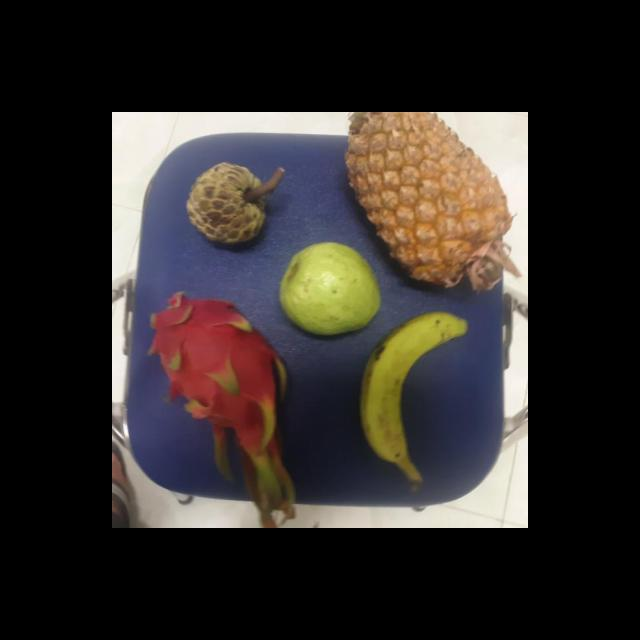Sakya fruit: (184, 164, 268, 248)
banana: (360, 314, 465, 462)
guava: (275, 242, 381, 333)
pineapple: (339, 112, 503, 295)
pitaya: (142, 293, 291, 450)
